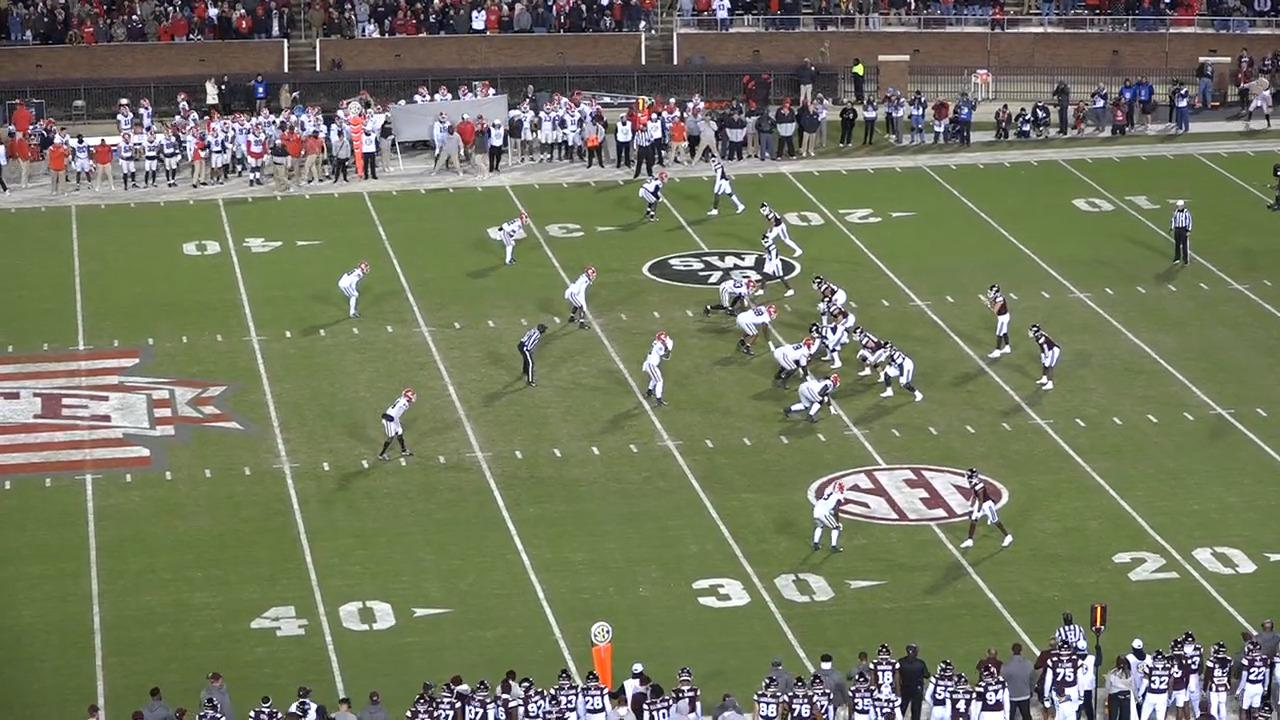player: (952, 466, 1013, 557), (810, 479, 852, 559), (372, 388, 413, 464), (786, 372, 843, 424), (880, 341, 927, 403), (759, 200, 804, 259), (751, 235, 791, 301), (979, 283, 1010, 363), (706, 154, 745, 217), (646, 330, 677, 409), (773, 340, 818, 394), (731, 305, 775, 359), (1026, 323, 1060, 392), (705, 274, 760, 316), (851, 326, 889, 383), (569, 267, 601, 333), (335, 260, 368, 320), (808, 322, 846, 370), (493, 210, 525, 266), (641, 170, 670, 225), (818, 300, 858, 330), (812, 276, 848, 307)
ref: (1166, 198, 1196, 267), (516, 323, 545, 392), (630, 122, 661, 181), (1052, 607, 1086, 657)
